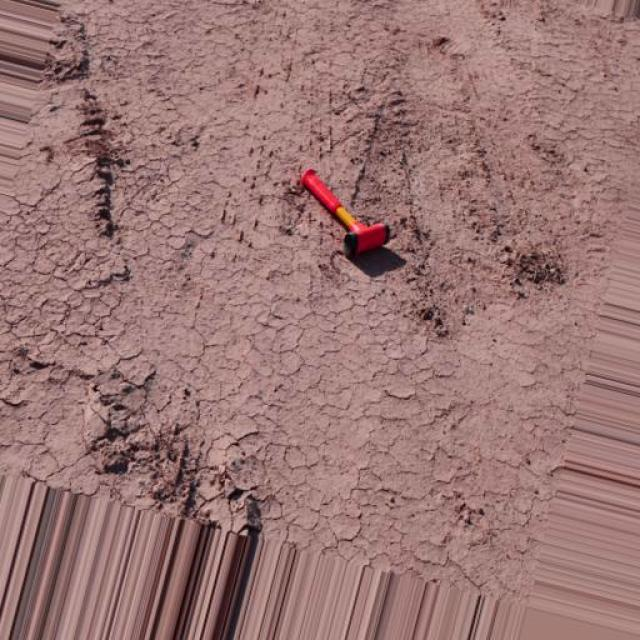mallet: (297, 166, 388, 258)
